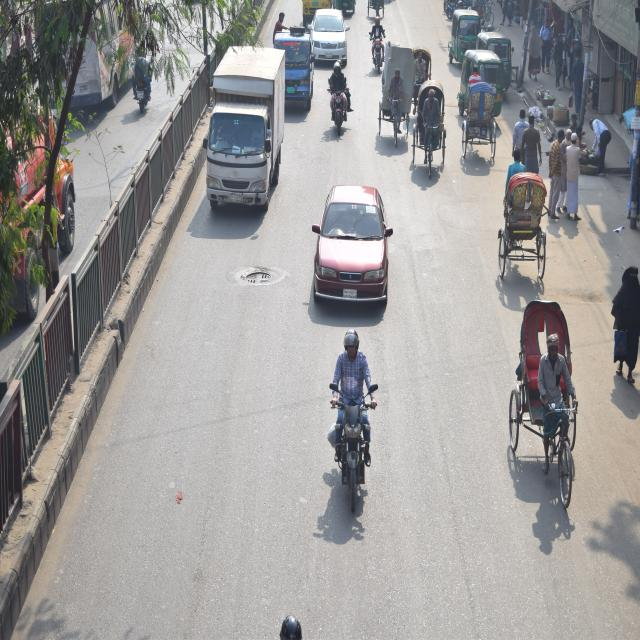car: (313, 6, 344, 70)
motorbike: (328, 381, 383, 516), (325, 84, 350, 139), (367, 33, 387, 83), (131, 70, 151, 118)
pickup-van: (206, 46, 283, 214), (272, 15, 312, 106)
